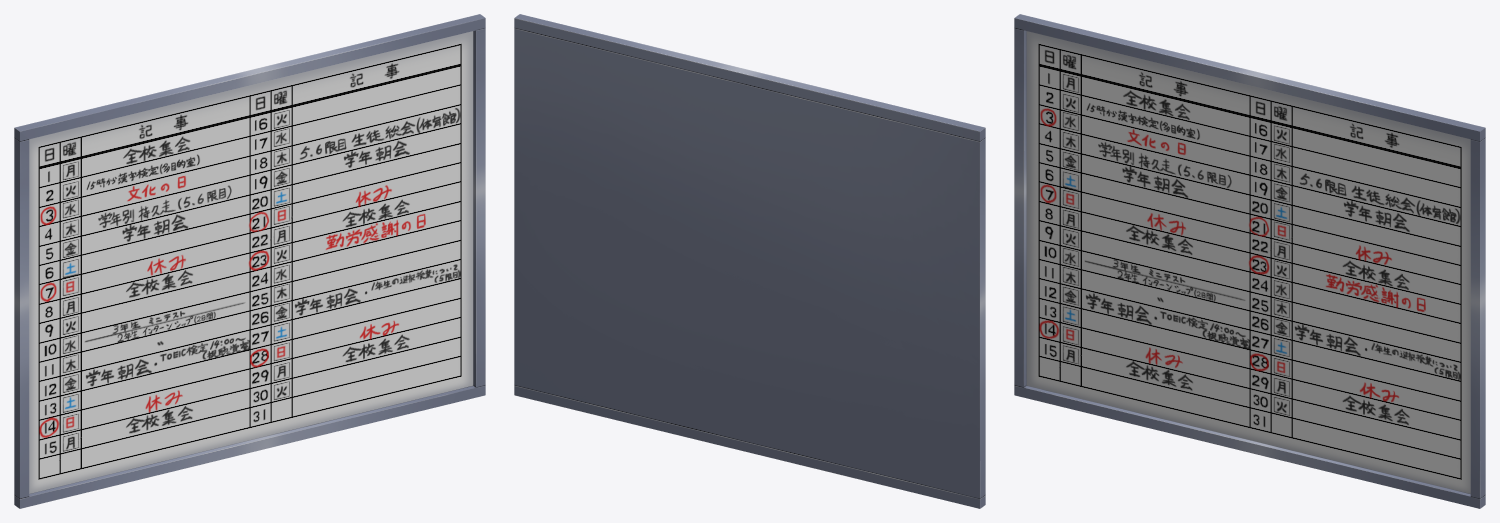
Rendered from Whiteboard_02_01.fbx.
3 views of the same model, side by side, from view 1: azimuth 30°, elevation 25°; view 2: azimuth 150°, elevation 25°; view 3: azimuth 330°, elevation 25° (orthographic).
Parts seen in each view (by area): view 1: whiteboard_02_01; view 2: whiteboard_02_01; view 3: whiteboard_02_01.
Boxes of the visible parts, box(x1,y1,x2,y2) form: whiteboard_02_01: box(14, 14, 485, 508); whiteboard_02_01: box(514, 14, 985, 508); whiteboard_02_01: box(1014, 14, 1485, 508).
Size of the model in its own units: 146 by 113 by 3.
